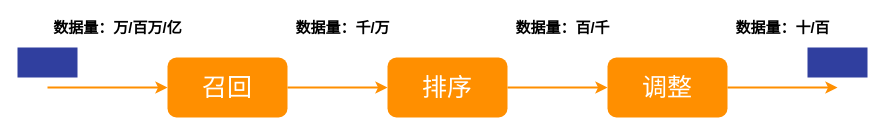
Some shapes in this 884 by 134 pixel diagram are drawn without their labels. Here are the shapes that lost their labels. From the top down, the centre of each, then its label:
At pixel 47 62: "输入".
At pixel 837 62: "输出".
